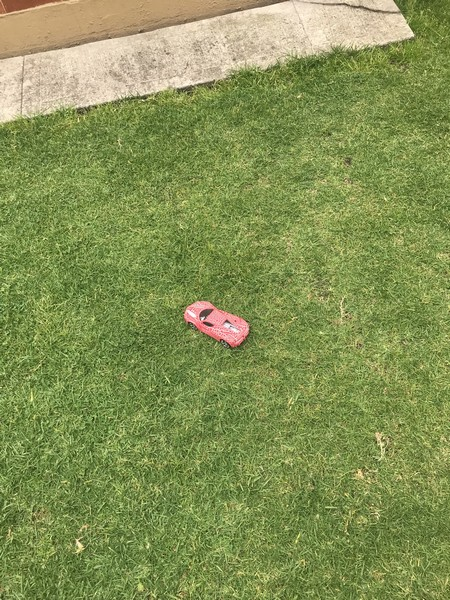RC: (182, 297, 251, 351)
